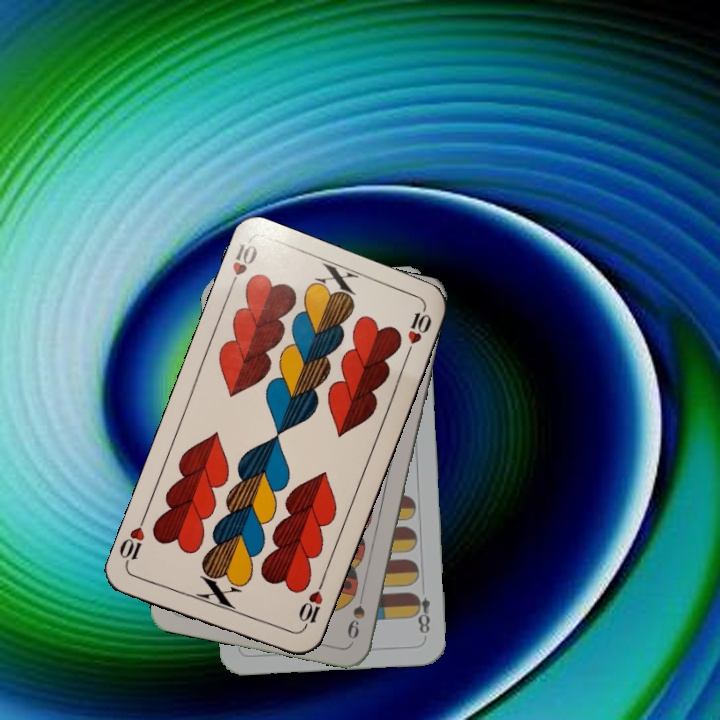E8: (409, 589, 433, 637)
H10: (224, 239, 260, 295), (294, 577, 327, 634)
S9: (343, 584, 368, 642)
